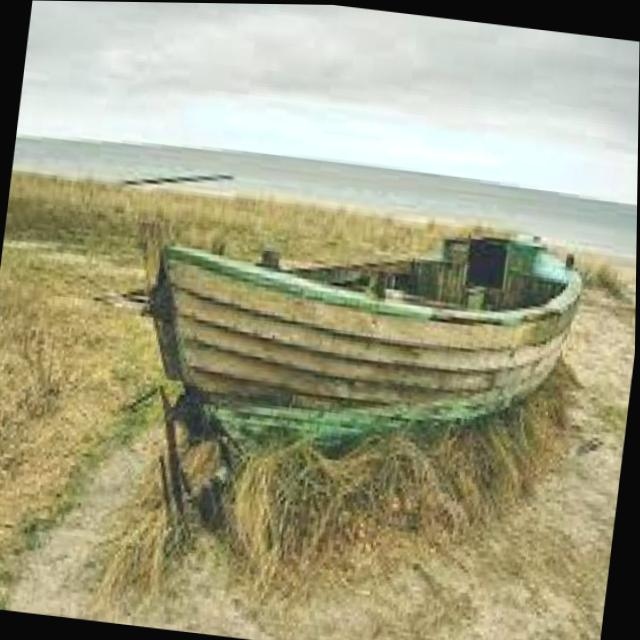ship2: (148, 235, 584, 453)
